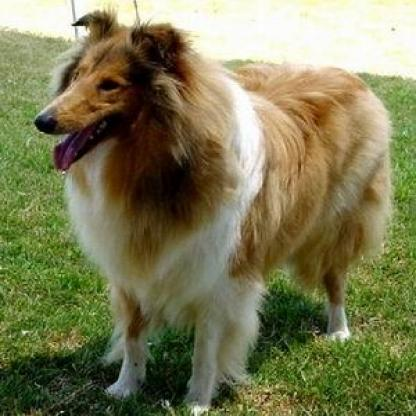collie: (31, 8, 392, 414)
